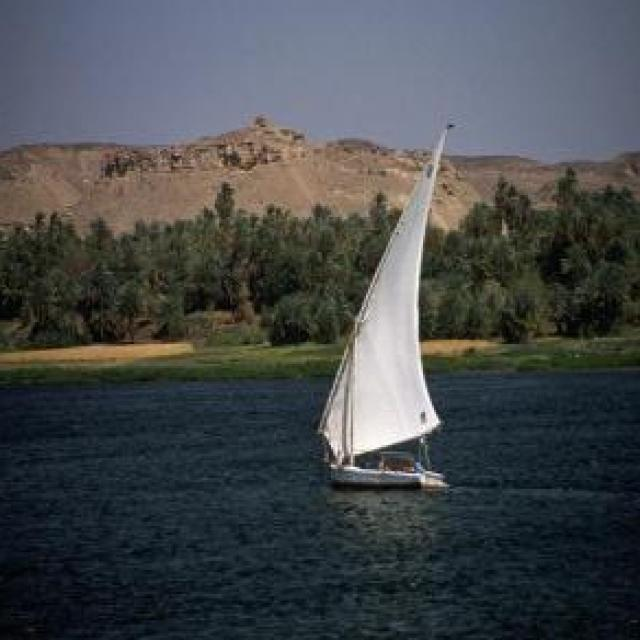sailboat: (308, 118, 462, 492)
